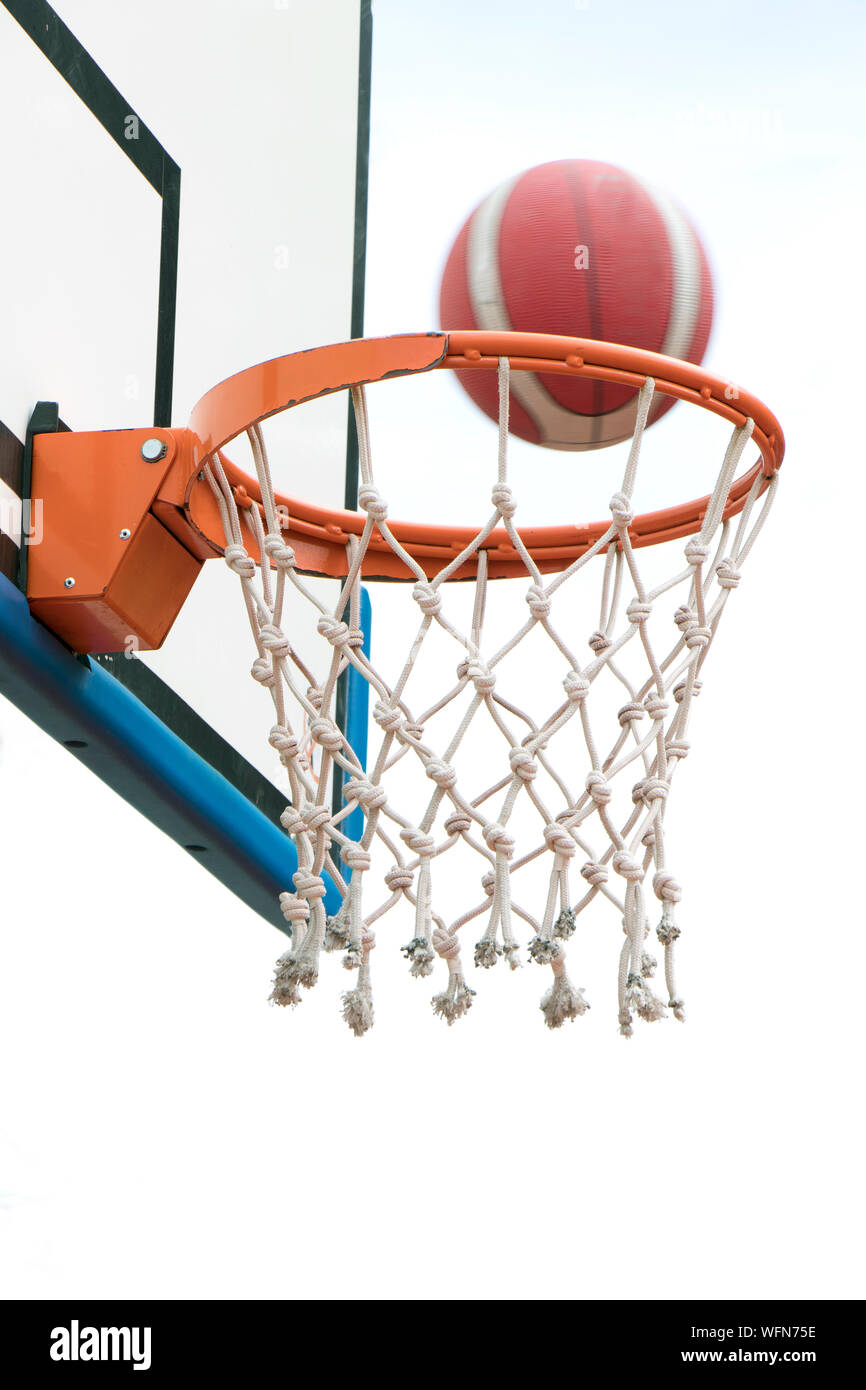MadeBasket: (188, 161, 784, 1038)
